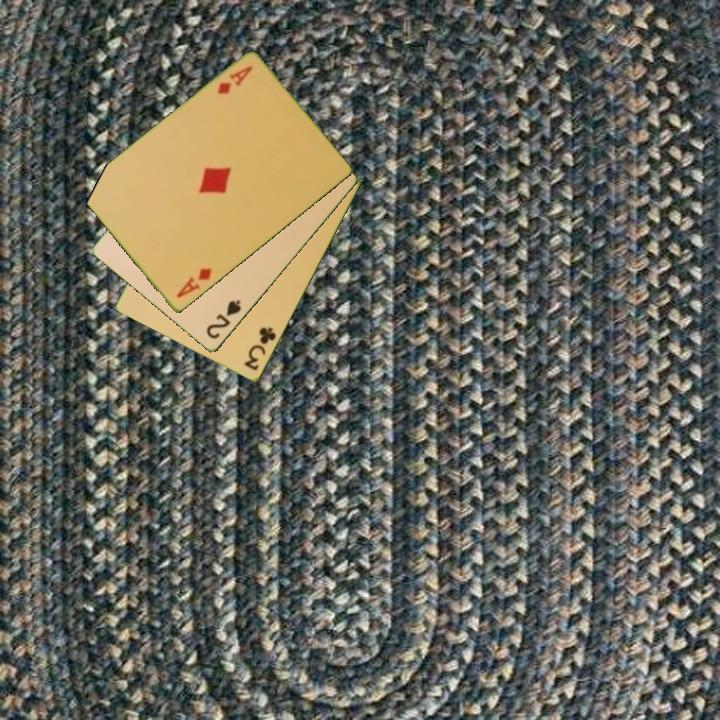2s: (203, 296, 244, 342)
3c: (240, 324, 279, 374)
Ad: (172, 265, 215, 301), (213, 62, 256, 98)
